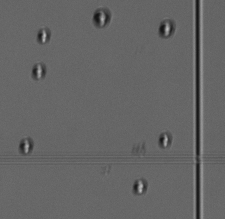Living Cell: (91, 8, 110, 29), (156, 19, 174, 39), (17, 136, 34, 156), (29, 62, 47, 80), (131, 179, 148, 196), (37, 27, 51, 44), (157, 132, 171, 149)
